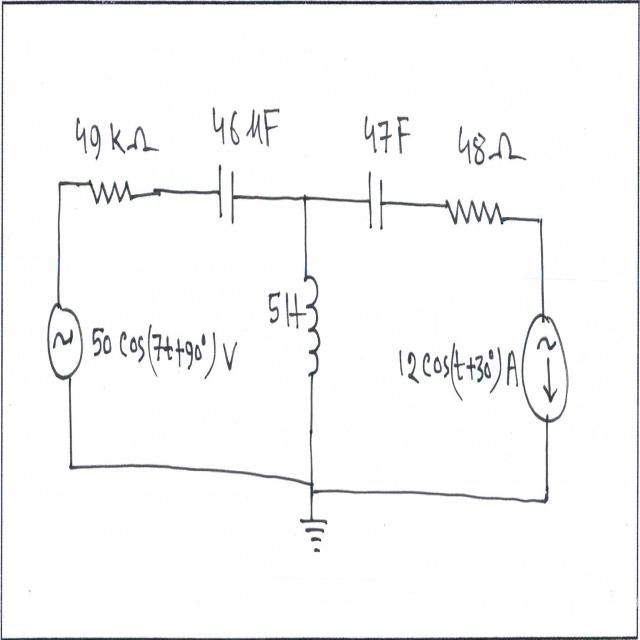ac_current: (46, 300, 83, 384)
capacitor: (365, 167, 388, 238), (215, 159, 238, 229)
current_source: (520, 311, 572, 430)
ground: (300, 508, 330, 562)
inductor: (301, 264, 325, 391)
resistor: (441, 186, 508, 237), (84, 171, 142, 214)
